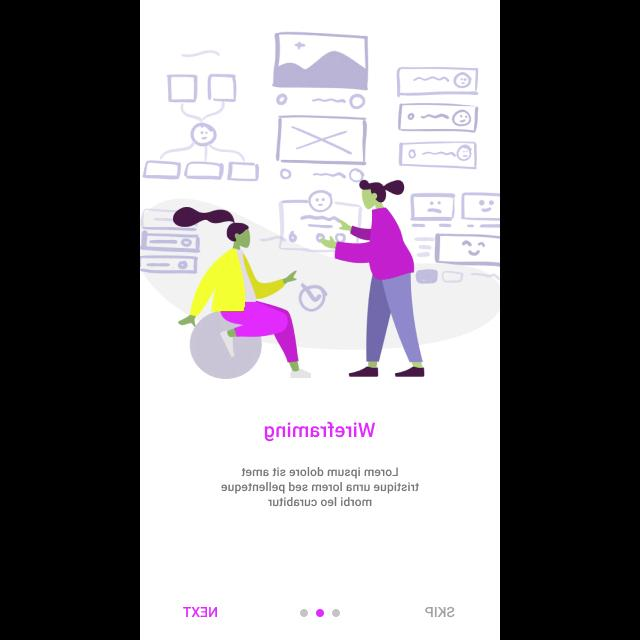image: (140, 32, 500, 380)
pageindicator: (299, 608, 341, 618)
text: (220, 466, 420, 506), (264, 422, 376, 442), (182, 606, 218, 618), (423, 606, 455, 618)
